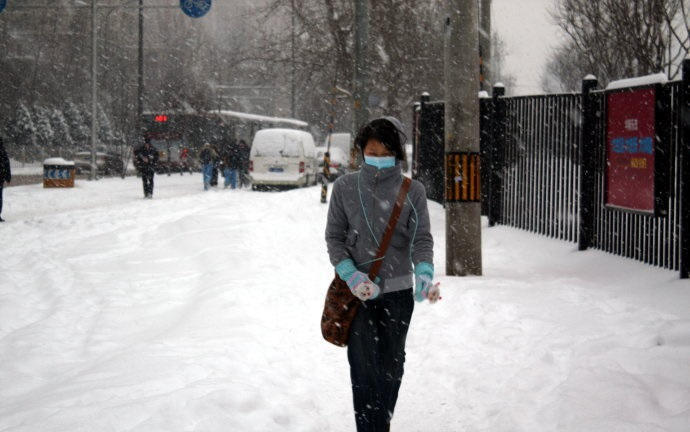face_mask: (364, 137, 393, 176)
